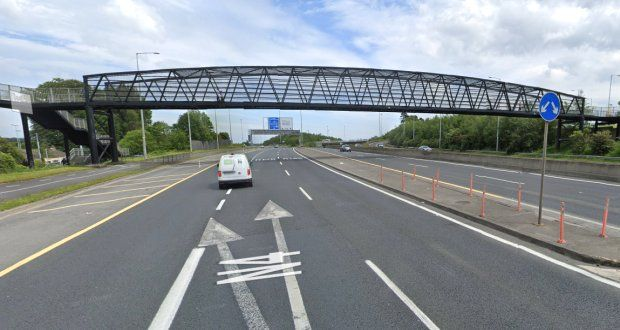bridge: (82, 63, 587, 124)
